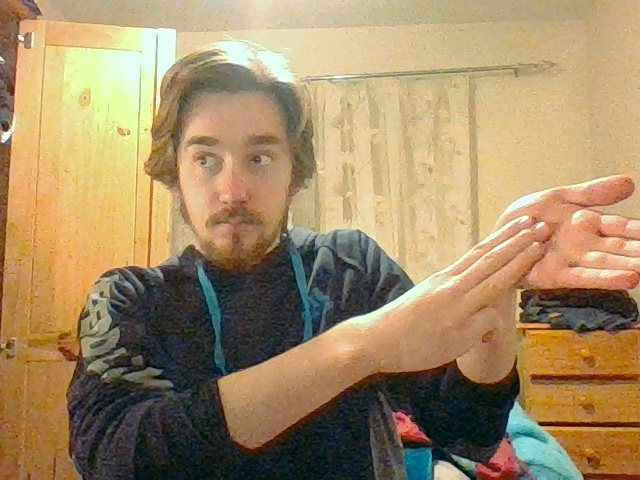mother: (468, 175, 640, 299)
